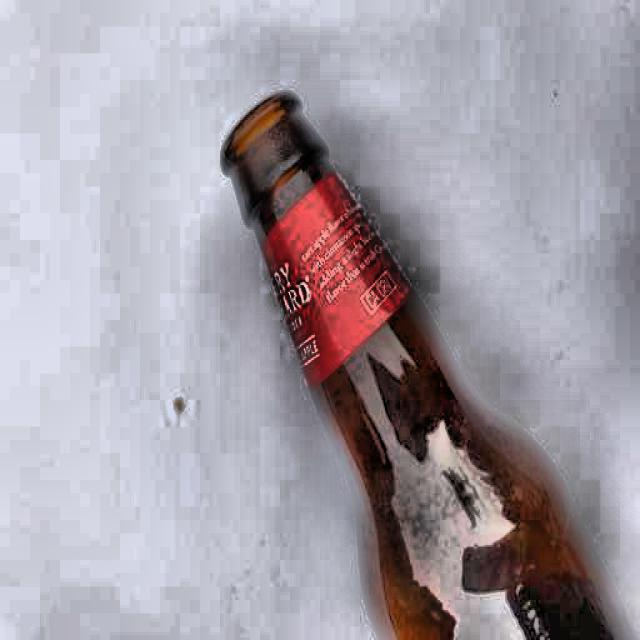glass: (213, 85, 640, 640)
